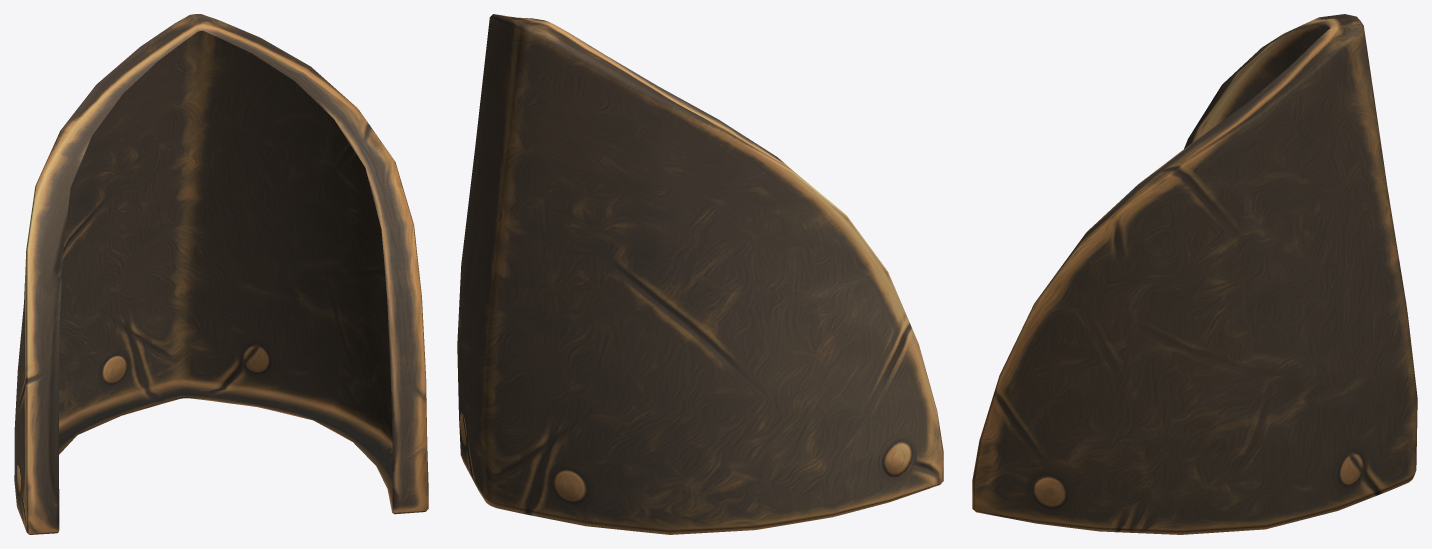
Rendered from sm_armor_dhodin_human_foot_back.gltf.
3 views of the same model, side by side, from view 1: azimuth 30°, elevation 25°; view 2: azimuth 150°, elevation 25°; view 3: azimuth 270°, elevation 25° (orthographic). The views are drawn at different scales.
Visible parts, largest first — view 1: sm_armor_dhodin_human_foot_back; view 2: sm_armor_dhodin_human_foot_back; view 3: sm_armor_dhodin_human_foot_back.
Part boxes in pixels (x1,y1,x2,y2): sm_armor_dhodin_human_foot_back: (14,14,428,534); sm_armor_dhodin_human_foot_back: (457,14,943,534); sm_armor_dhodin_human_foot_back: (972,14,1417,534).
Bounding box in the file's own units: 0.1155 × 0.1174 × 0.1053.
1 material, 1 textured.
